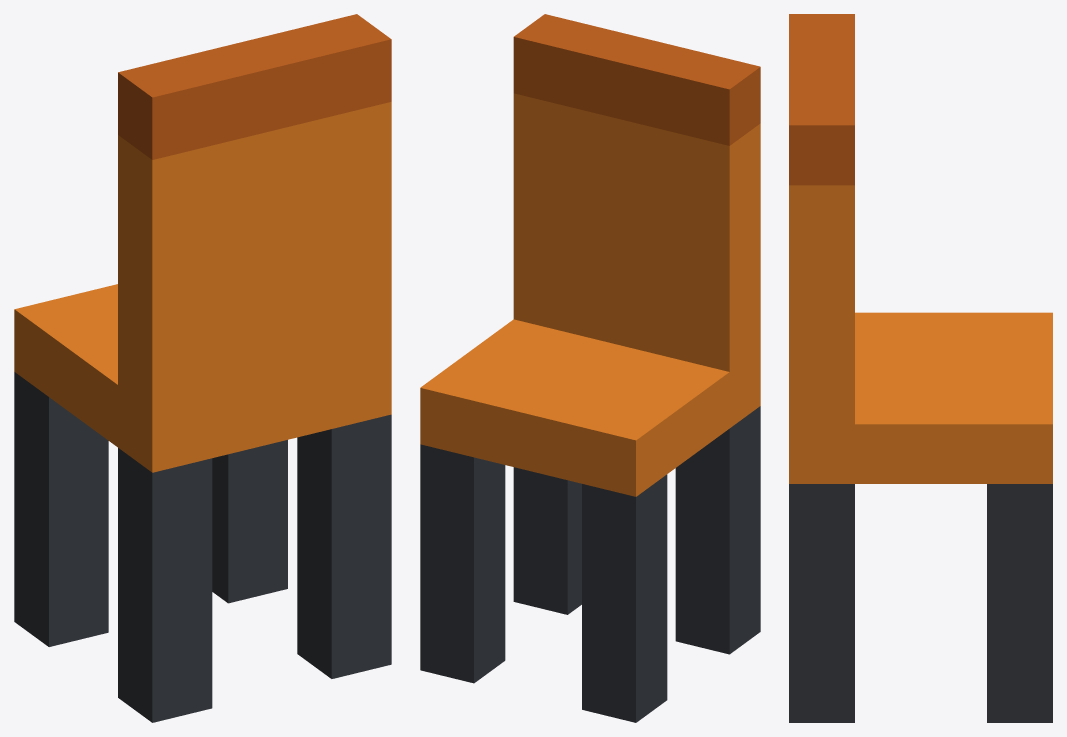
File: cafe_chair.glb
3 renders of one model, left to right at view 1: azimuth 30°, elevation 25°; view 2: azimuth 150°, elevation 25°; view 3: azimuth 270°, elevation 25°, orthographic. The views are drawn at different scales.
Parts seen in each view (by area): view 1: chair; view 2: chair; view 3: chair.
Part boxes in pixels (x1,y1,x2,y2): chair: (14,14,391,722); chair: (420,14,760,722); chair: (789,14,1052,722).
Size of the model in its own units: 0.4 by 1 by 0.4.
